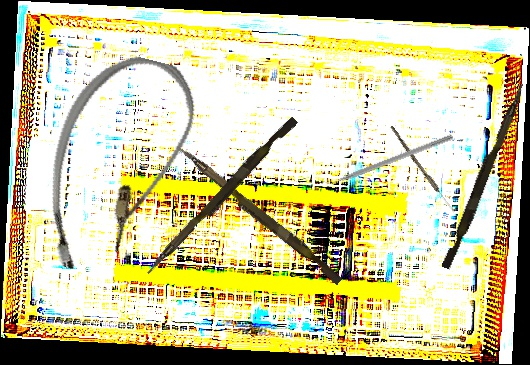Cannula: (29, 42, 206, 290)
Chopper: (317, 127, 454, 190)
Pusher: (144, 112, 299, 281), (170, 143, 347, 286), (441, 80, 526, 272)
Surgical Spoon: (388, 125, 457, 214)
